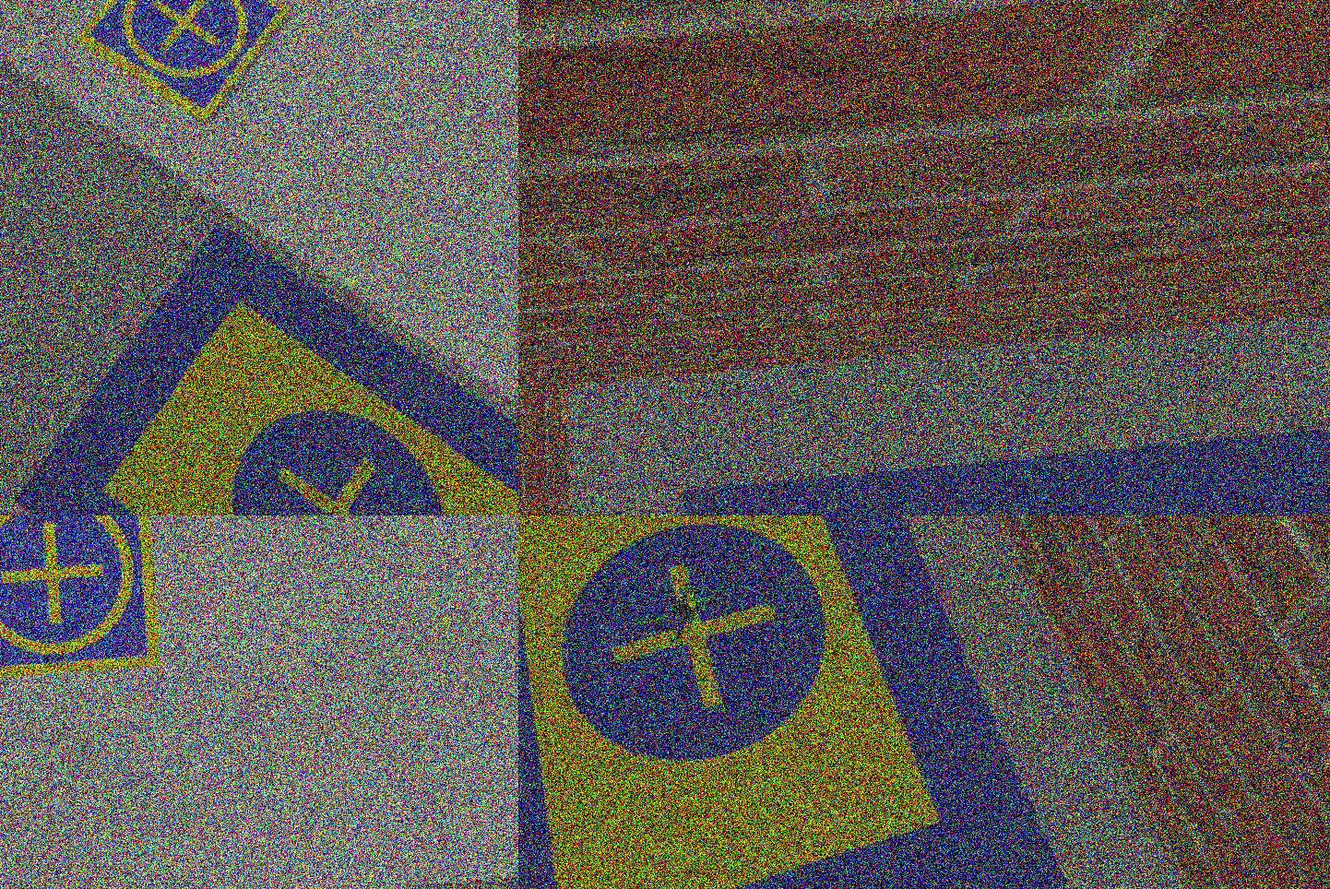large_base: (518, 516, 1078, 889), (2, 197, 518, 516), (681, 417, 1330, 516)
small_base: (77, 1, 296, 127), (1, 516, 164, 681)
